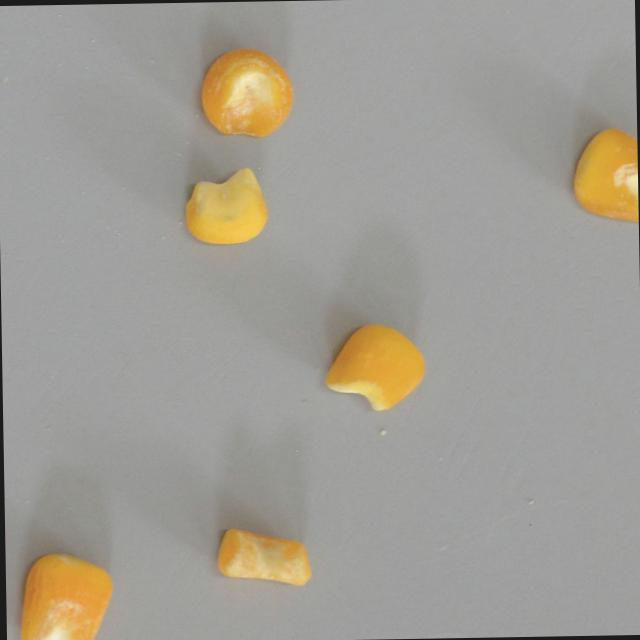no_canjicado: (325, 321, 425, 411), (184, 164, 269, 244), (571, 126, 638, 224)
pelicula: (17, 548, 114, 640), (196, 47, 294, 136), (215, 526, 313, 586)
